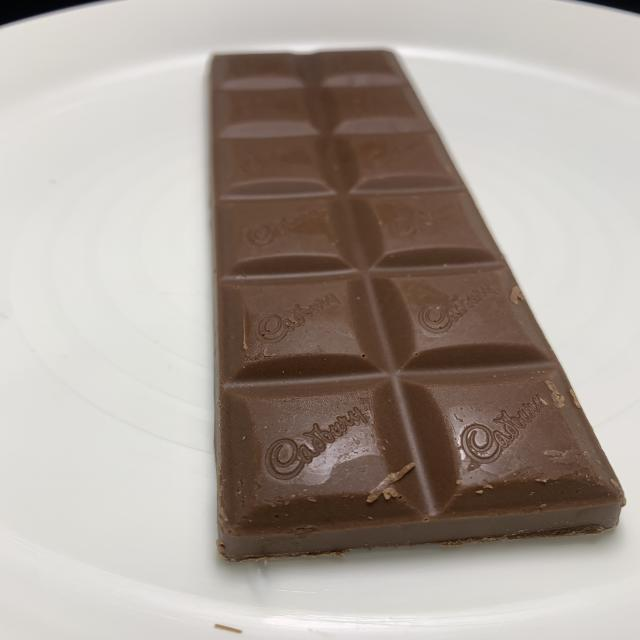Chocolate: (205, 51, 629, 562)
